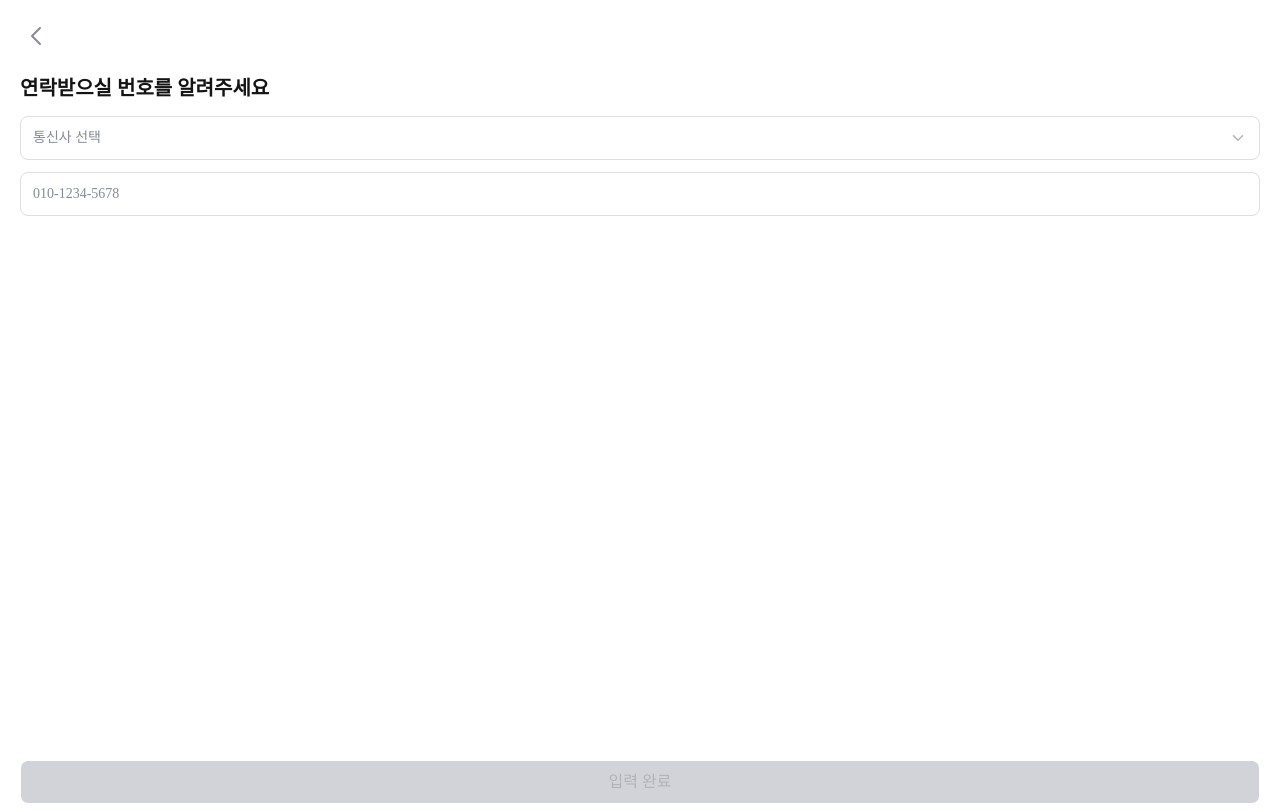
Scenario: 번호 0101234를 치면 010-1234로 보인다
Type "0101234" into the field named "휴대폰 번호". click: (640, 194)
box: [20,172,1260,216]
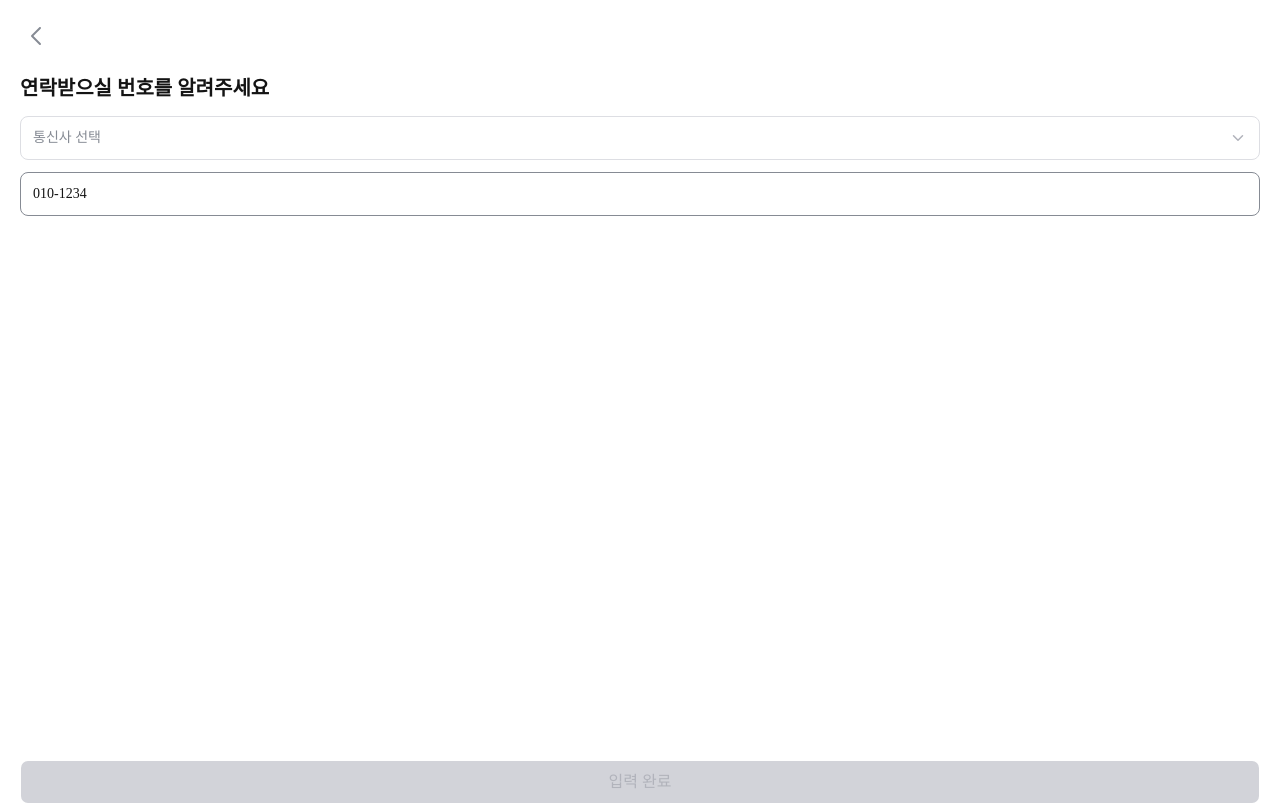
Result: the field named "휴대폰 번호" holds "010-1234" at [20,172,1260,216]
